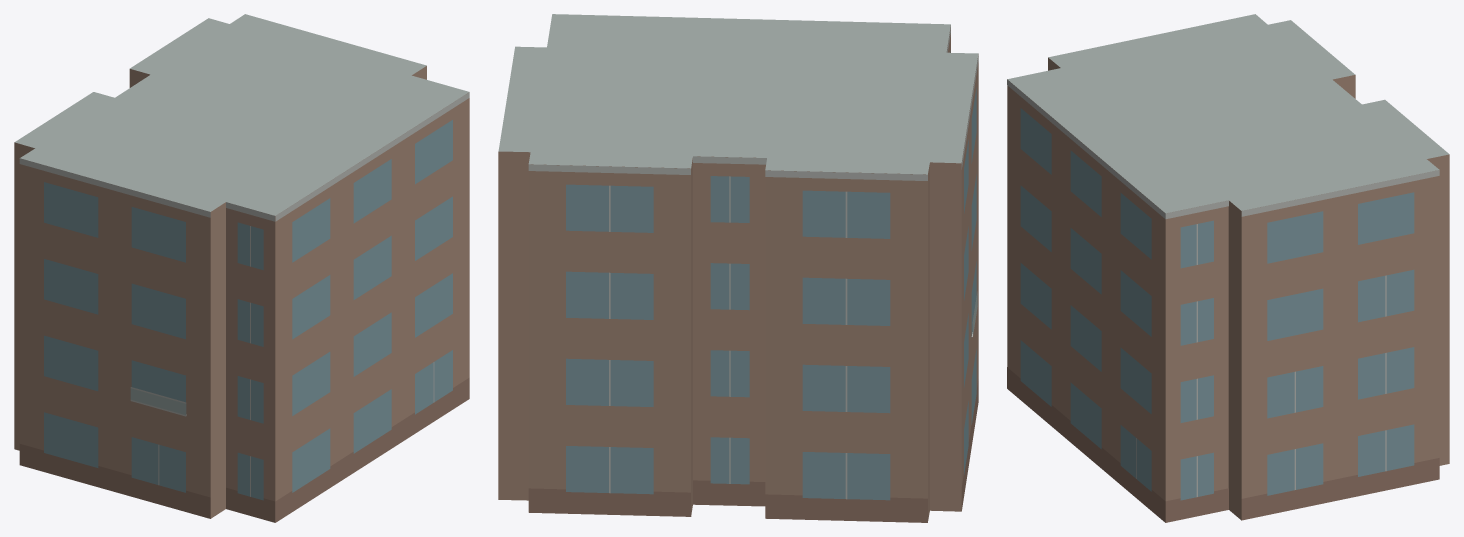
Rendered from survey-upis-32611575.glb.
The picture shows the model from 3 angles, left to right: view 1: azimuth 30°, elevation 25°; view 2: azimuth 150°, elevation 25°; view 3: azimuth 270°, elevation 25°; orthographic projection. The views are drawn at different scales.
Parts seen in each view (by area): view 1: survey-upis-32611575.tmp; view 2: survey-upis-32611575.tmp; view 3: survey-upis-32611575.tmp.
Boxes of the visible parts, x1,y1,x2,y2 form: survey-upis-32611575.tmp: (14,14,469,522); survey-upis-32611575.tmp: (498,14,978,522); survey-upis-32611575.tmp: (1007,14,1449,522).
Bounding box in the file's own units: 17.68 × 12.79 × 16.58.
